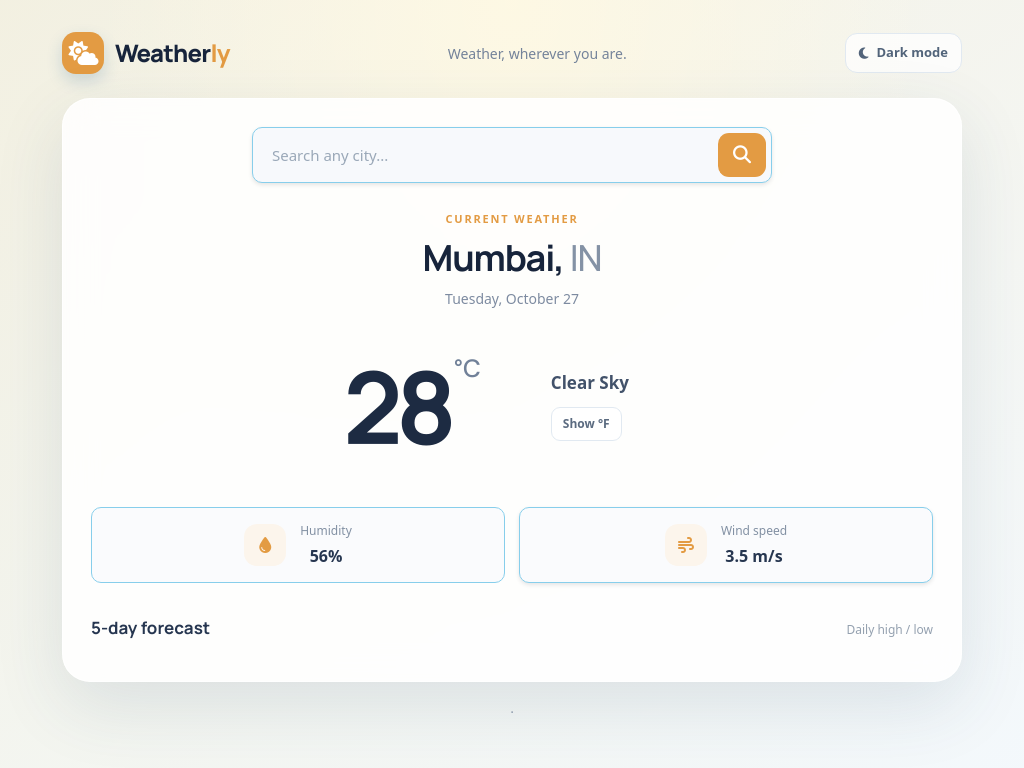
Test case: shows current weather details and converts temperatures
This screenshot has width=1024, height=768.
Expected: the heading "Mumbai, IN" is shown, x1=423 y1=232 x2=601 y2=282
Expected: the text "56%" is shown, x1=310 y1=545 x2=342 y2=567
Click the button with aria-label "Switch to Fahrenheit" at (586, 424), box x1=551 y1=407 x2=622 y2=441
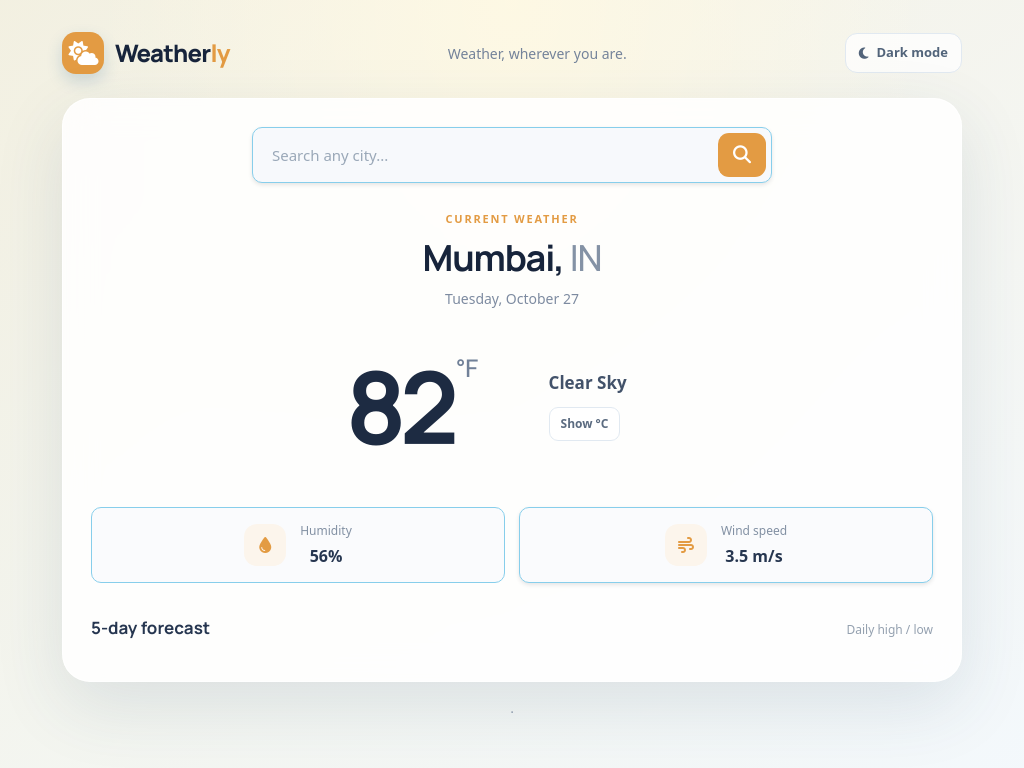
Now the text "82" is shown, box x1=345 y1=337 x2=452 y2=474
Now the button with aria-label "Switch to Celsius" is shown, box x1=548 y1=407 x2=620 y2=441
